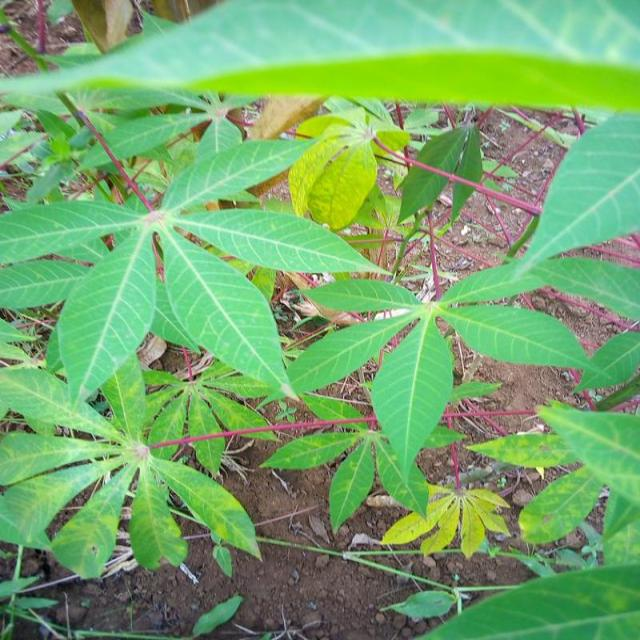cassava leaf: (1, 1, 638, 624), (1, 0, 638, 115), (157, 220, 297, 401), (370, 310, 454, 483)
